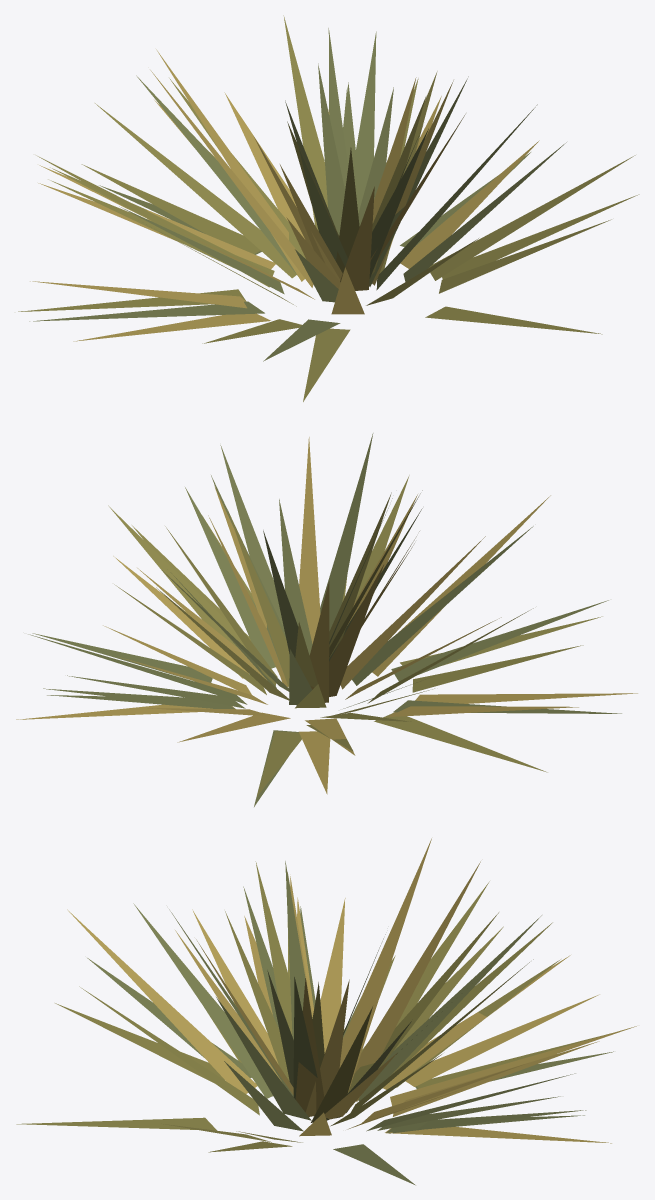
The model's file is spinifex.glb.
The picture shows the model from 3 angles, top to bottom: view 1: azimuth 30°, elevation 25°; view 2: azimuth 150°, elevation 25°; view 3: azimuth 270°, elevation 25°; orthographic projection. The views are drawn at different scales.
Visible parts, largest first — view 1: spinifex2; view 2: spinifex2; view 3: spinifex2.
Boxes of the visible parts, <box> form: spinifex2: <box>18,15,639,401</box>; spinifex2: <box>16,433,637,806</box>; spinifex2: <box>16,838,636,1185</box>.
Size of the model in its own units: 1.98 by 0.7021 by 1.9.
